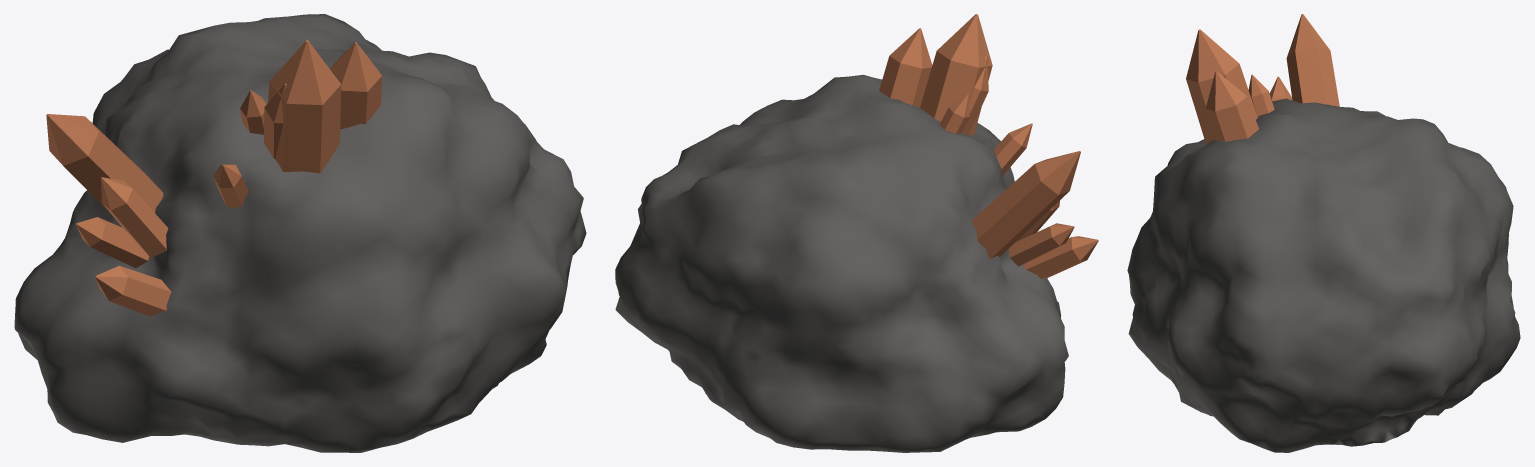
Rendered from monazite_deep.glb.
3 views of the same model, side by side, from view 1: azimuth 30°, elevation 25°; view 2: azimuth 150°, elevation 25°; view 3: azimuth 270°, elevation 25° (orthographic). The views are drawn at different scales.
Visible parts, largest first — view 1: monazite_deep; view 2: monazite_deep; view 3: monazite_deep.
Part boxes in pixels (box(x1,y1,x2,y2)): monazite_deep: box(14, 14, 586, 452); monazite_deep: box(615, 14, 1098, 452); monazite_deep: box(1127, 14, 1520, 452).
Bounding box in the file's own units: 2.29 × 1.73 × 1.94.
